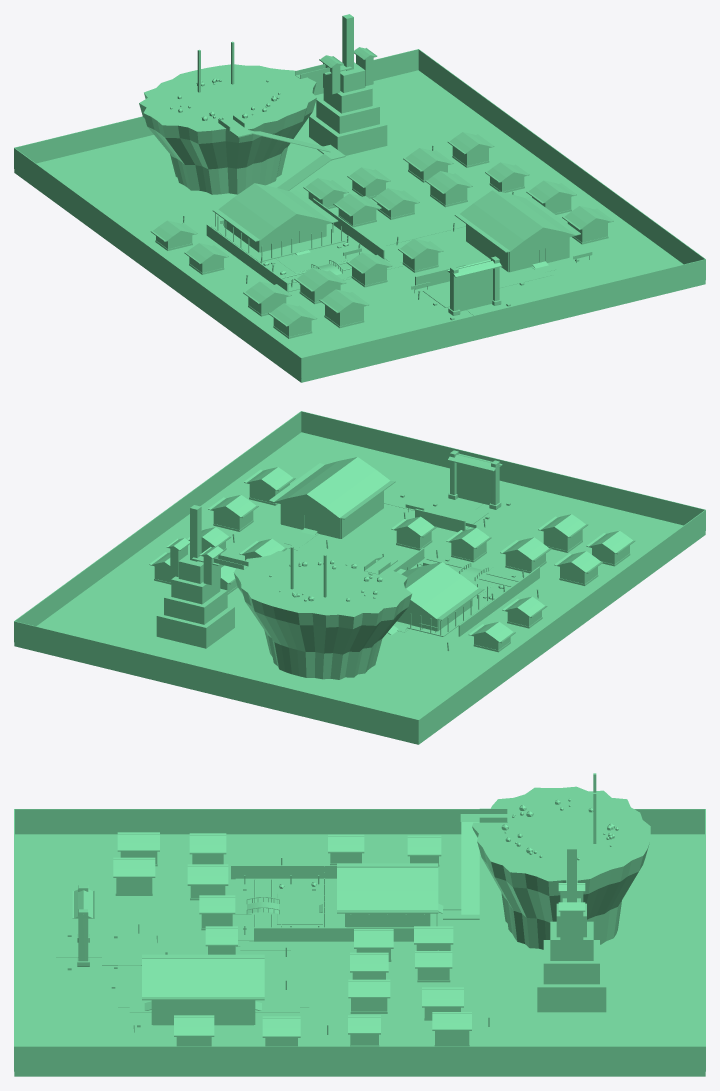
Rendered from seireitei-collision.glb.
3 renders of one model, top to bottom at view 1: azimuth 30°, elevation 25°; view 2: azimuth 150°, elevation 25°; view 3: azimuth 270°, elevation 25°, orthographic. The views are drawn at different scales.
Visible parts, largest first — view 1: COLLISION_SOLID, COLLISION_WALKABLE, COLLIDER_DOOR_01, COLLIDER_DOOR_00; view 2: COLLISION_SOLID, COLLISION_WALKABLE, COLLIDER_DOOR_01, COLLIDER_DOOR_00; view 3: COLLISION_WALKABLE, COLLISION_SOLID.
Boxes of the visible parts, left/top/right/bottom form: COLLISION_SOLID: left=14, top=14, right=705, bottom=378; COLLISION_WALKABLE: left=14, top=64, right=705, bottom=382; COLLIDER_DOOR_01: left=475, top=269, right=492, bottom=307; COLLIDER_DOOR_00: left=458, top=273, right=475, bottom=311; COLLISION_SOLID: left=14, top=411, right=705, bottom=740; COLLISION_WALKABLE: left=14, top=432, right=705, bottom=744; COLLIDER_DOOR_01: left=456, top=463, right=474, bottom=501; COLLIDER_DOOR_00: left=474, top=467, right=490, bottom=504; COLLISION_WALKABLE: left=14, top=786, right=705, bottom=1076; COLLISION_SOLID: left=14, top=773, right=705, bottom=1071.
Bounding box in the file's own units: 122 × 37.2 × 150.
